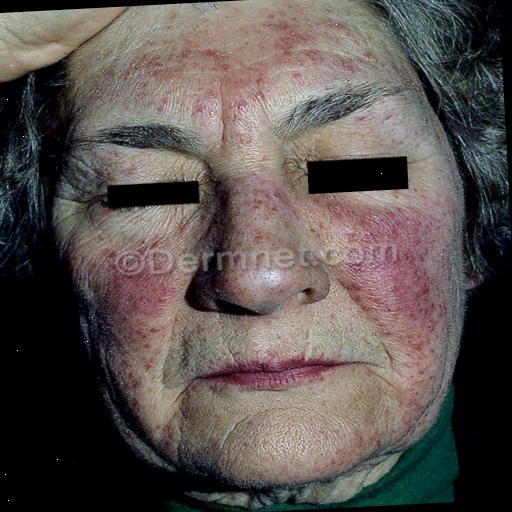Skin_Lesion: (331, 204, 440, 300), (220, 348, 338, 399), (93, 252, 184, 308), (268, 6, 328, 68), (128, 58, 180, 88), (246, 180, 280, 214), (402, 397, 430, 438), (262, 269, 296, 297), (200, 44, 228, 77)
